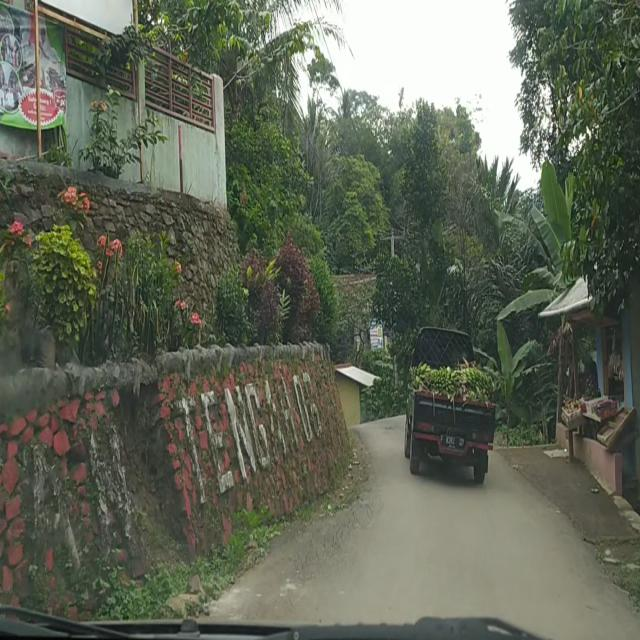Drain Hole: (287, 491, 379, 581)
